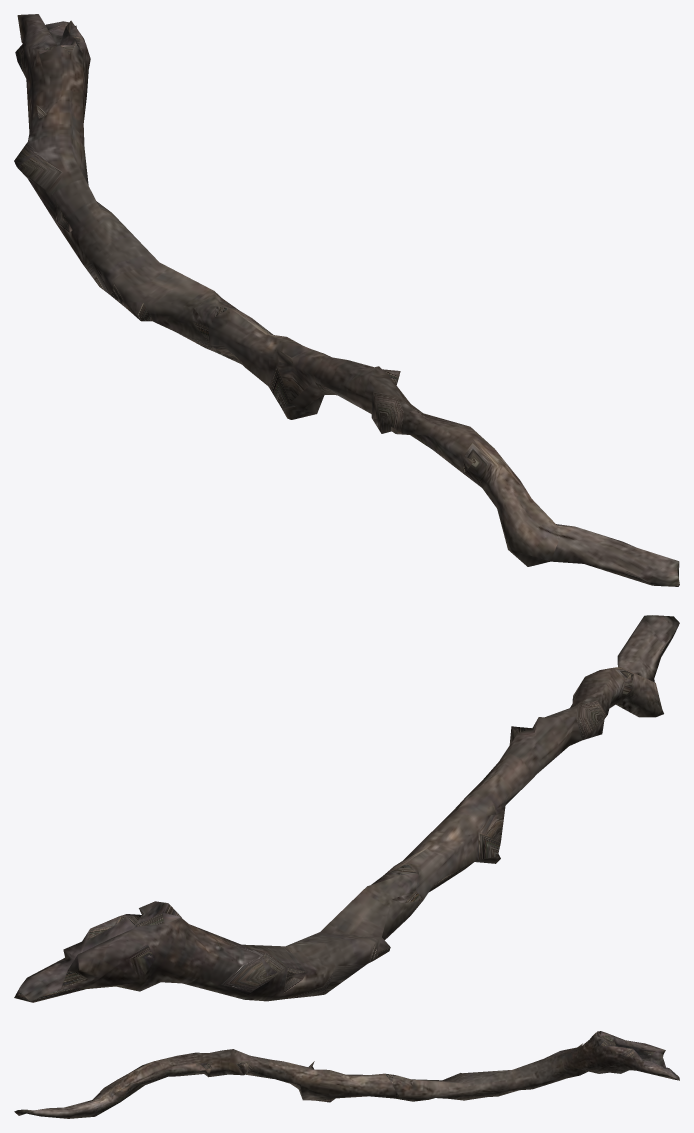
3 views of the same model, one above another, from view 1: azimuth 30°, elevation 25°; view 2: azimuth 150°, elevation 25°; view 3: azimuth 270°, elevation 25° (orthographic). The views are drawn at different scales.
Parts seen in each view (by area): view 1: dry_branches_medium_01__b_lod1; view 2: dry_branches_medium_01__b_lod1; view 3: dry_branches_medium_01__b_lod1.
Part boxes in pixels (x1,y1,x2,y2): dry_branches_medium_01__b_lod1: (14,14,679,586); dry_branches_medium_01__b_lod1: (14,615,679,1002); dry_branches_medium_01__b_lod1: (14,1031,679,1118).
Size of the model in its own units: 0.1479 by 0.1394 by 1.04.
1 material, 1 textured.
